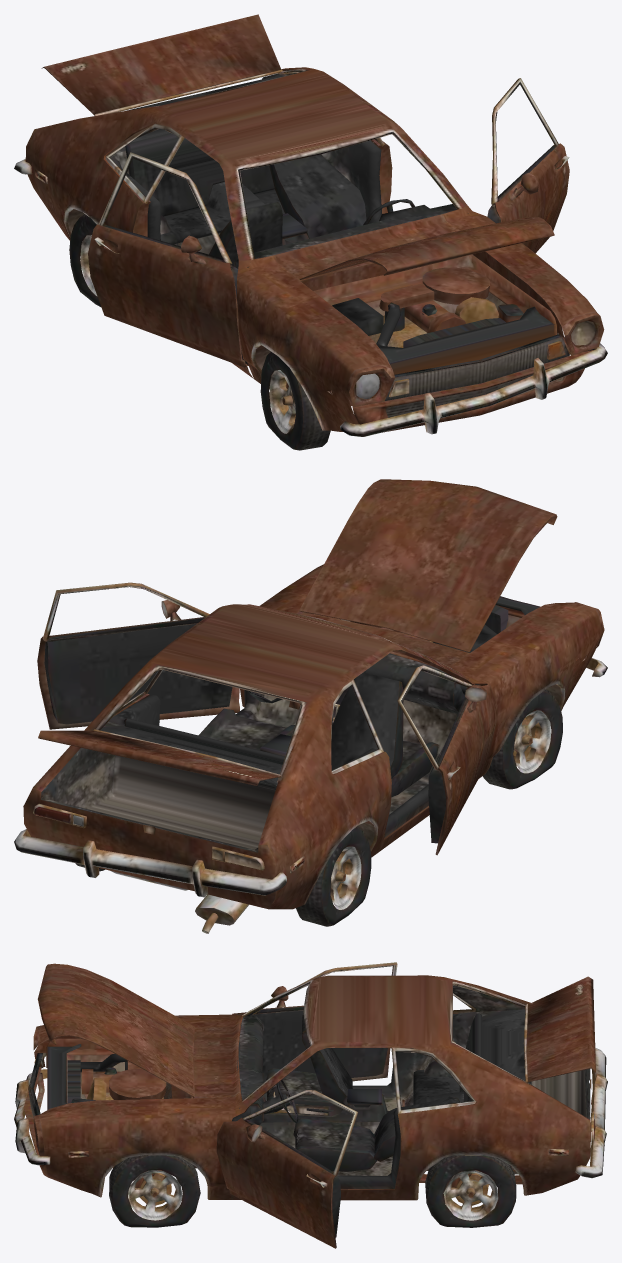
File: compact_car_b_rusty.glb
3 views of the same model, one above another, from view 1: azimuth 30°, elevation 25°; view 2: azimuth 150°, elevation 25°; view 3: azimuth 270°, elevation 25° (orthographic). The views are drawn at different scales.
Visible parts, largest first — view 1: compact_car_b_LOD0; view 2: compact_car_b_LOD0; view 3: compact_car_b_LOD0.
Part boxes in pixels (x1,y1,x2,y2): compact_car_b_LOD0: (14,14,607,450); compact_car_b_LOD0: (14,479,607,933); compact_car_b_LOD0: (14,962,607,1248).
Size of the model in its own units: 3.4 by 1.56 by 4.63.
Materials: 2 (2 with a texture image).
